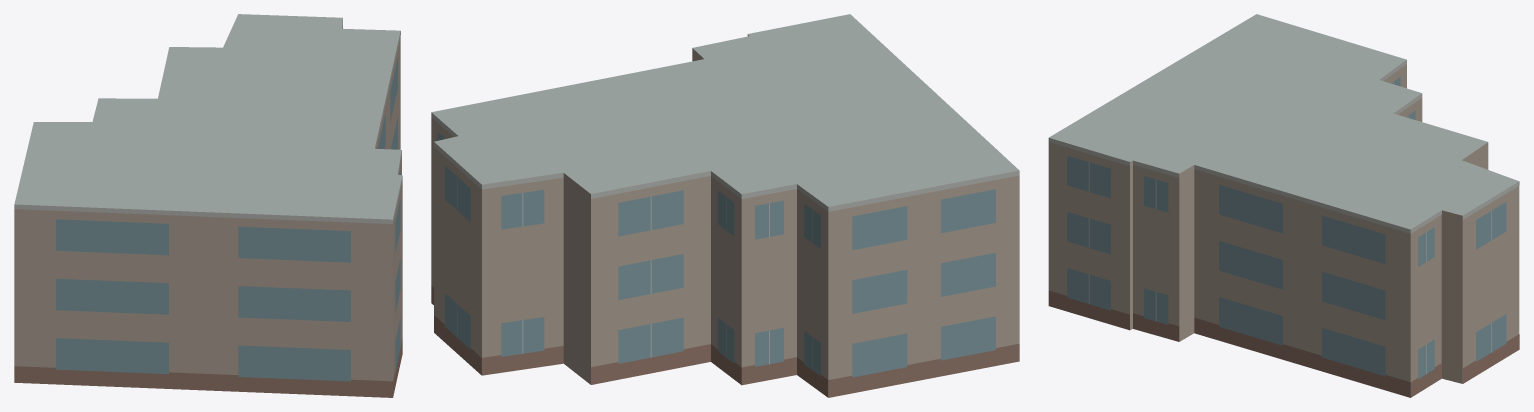
File: survey-upis-32931126.glb
3 views of the same model, side by side, from view 1: azimuth 30°, elevation 25°; view 2: azimuth 150°, elevation 25°; view 3: azimuth 270°, elevation 25° (orthographic). The views are drawn at different scales.
Parts seen in each view (by area): view 1: survey-upis-32931126.tmp; view 2: survey-upis-32931126.tmp; view 3: survey-upis-32931126.tmp.
Boxes of the visible parts, <box> form: survey-upis-32931126.tmp: <box>14,14,402,397</box>; survey-upis-32931126.tmp: <box>431,14,1019,397</box>; survey-upis-32931126.tmp: <box>1048,14,1519,397</box>.
Size of the model in its own units: 26.1 by 9.5 by 24.09.
